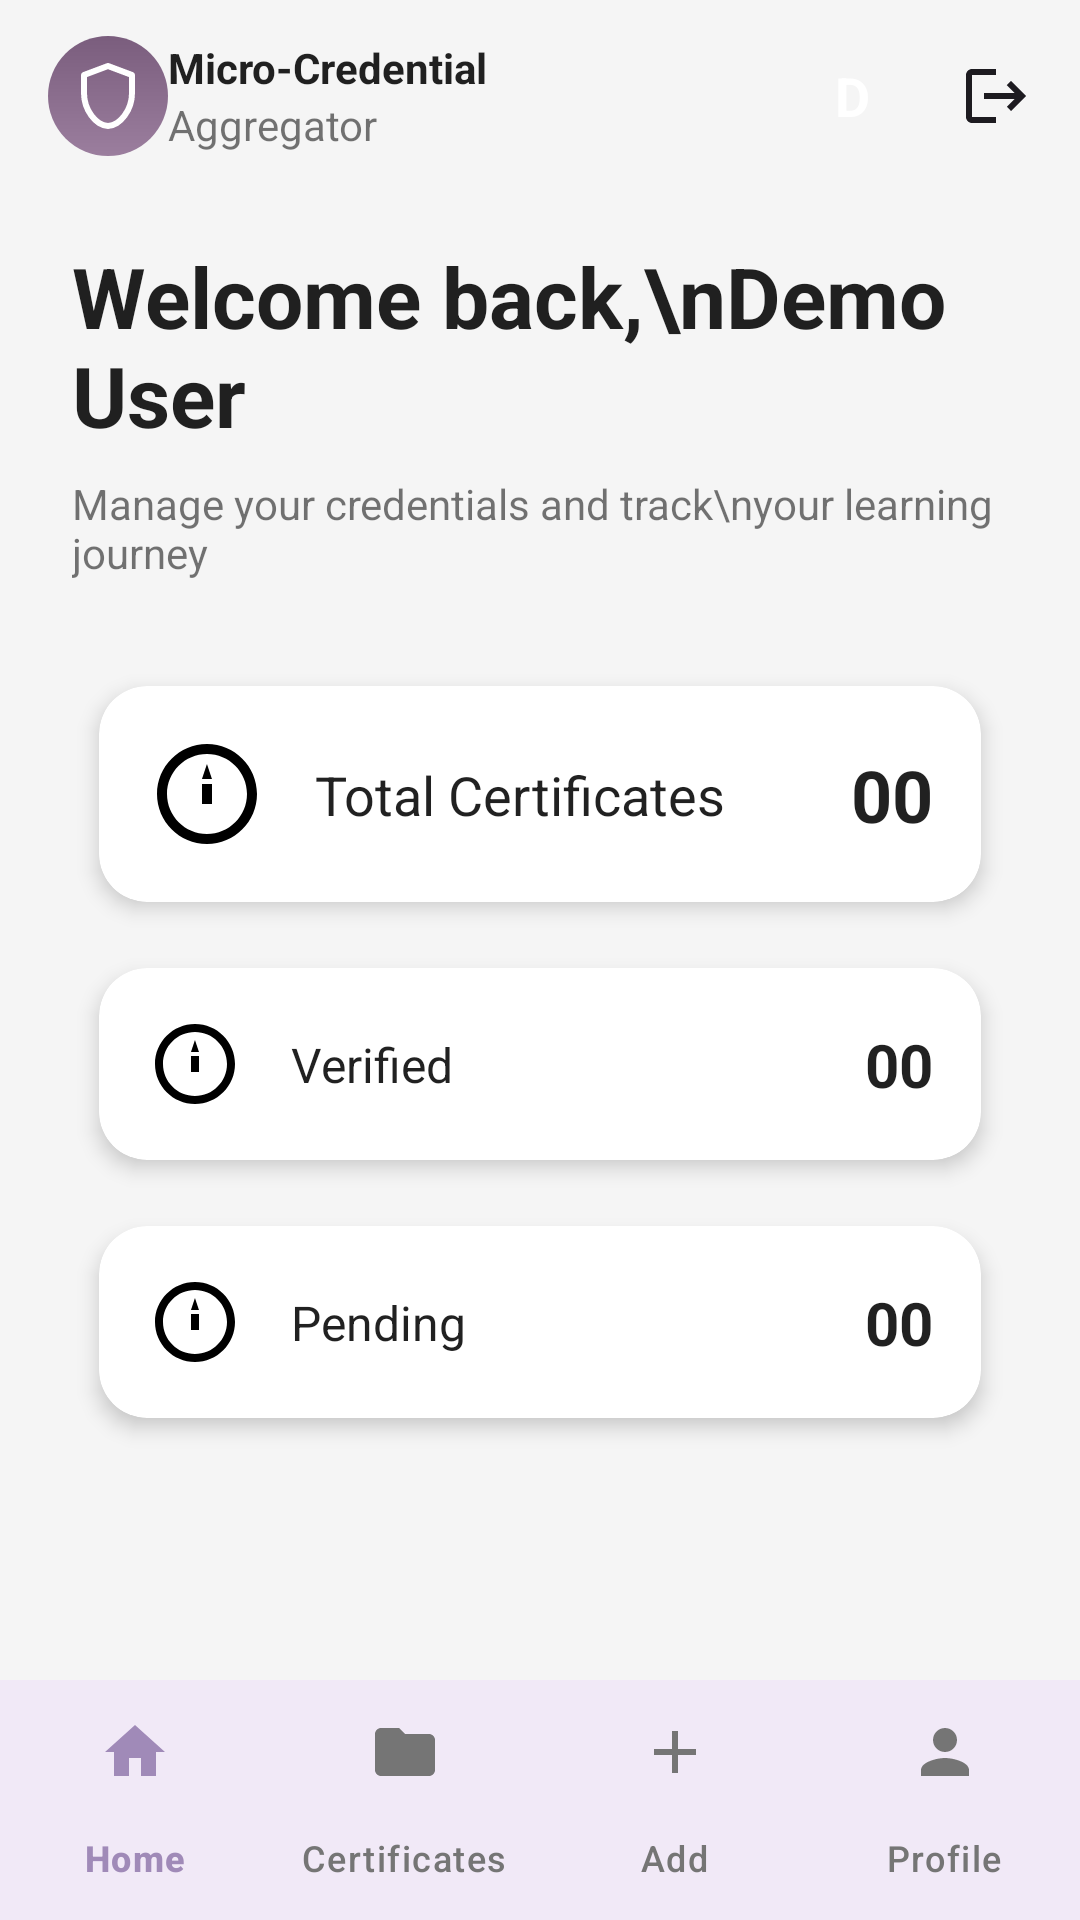

Icons on this 1080 × 1920 Android screen, each with its box as (x1, y1, x2, y2):
shield: (48, 36, 168, 156)
